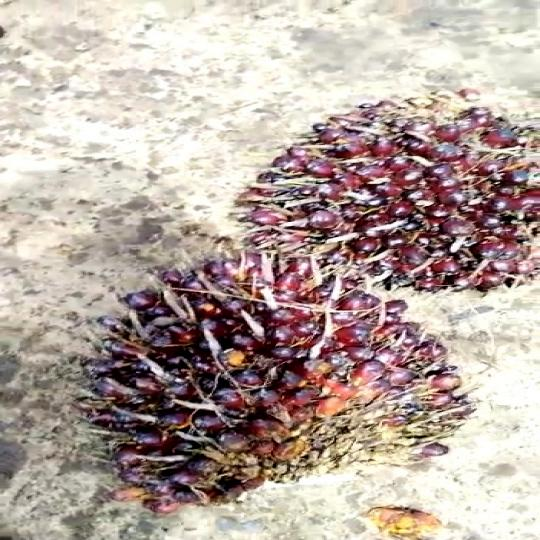kurang masak: (72, 242, 478, 509), (240, 83, 540, 302)
